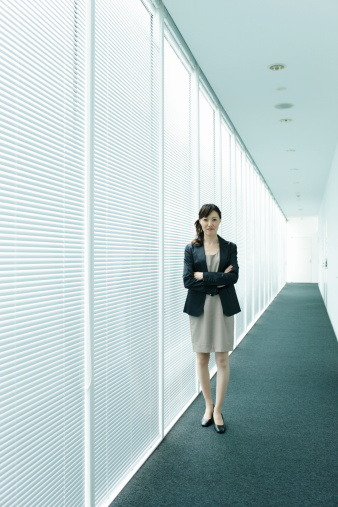em pe: (173, 195, 246, 425)
